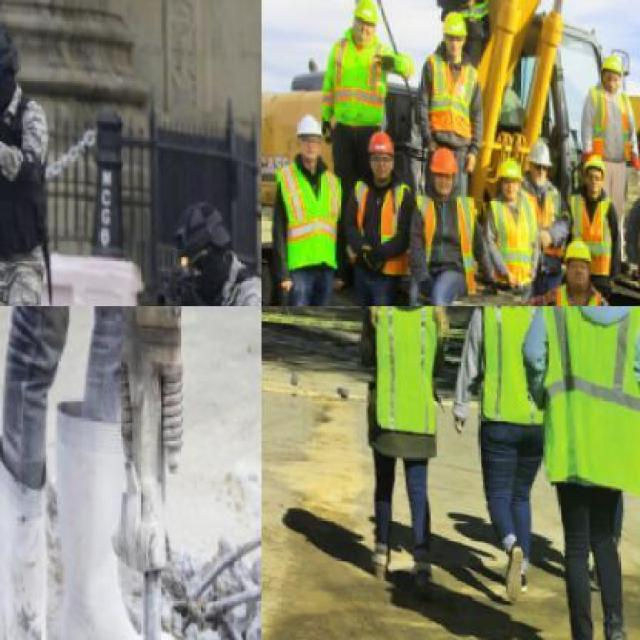Vest: (516, 306, 638, 505), (354, 306, 448, 437), (460, 306, 552, 431), (0, 85, 57, 262), (265, 163, 346, 268), (400, 191, 477, 291), (340, 174, 414, 278), (326, 41, 391, 132), (478, 192, 537, 288), (556, 185, 616, 277), (417, 60, 483, 142), (157, 258, 260, 304), (580, 83, 635, 159), (519, 177, 563, 237), (540, 280, 605, 305)
